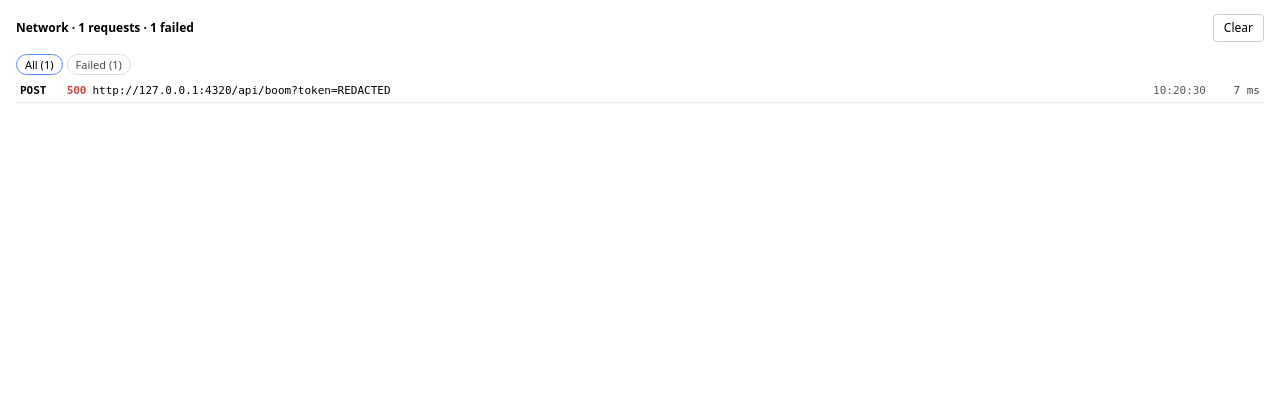
Test case: NetworkDrawer › shows request and response headers as plain text with sensitive values redacted
Step 1. Click the button "/api/boom" → [242, 91], box [16,81,1264,103]
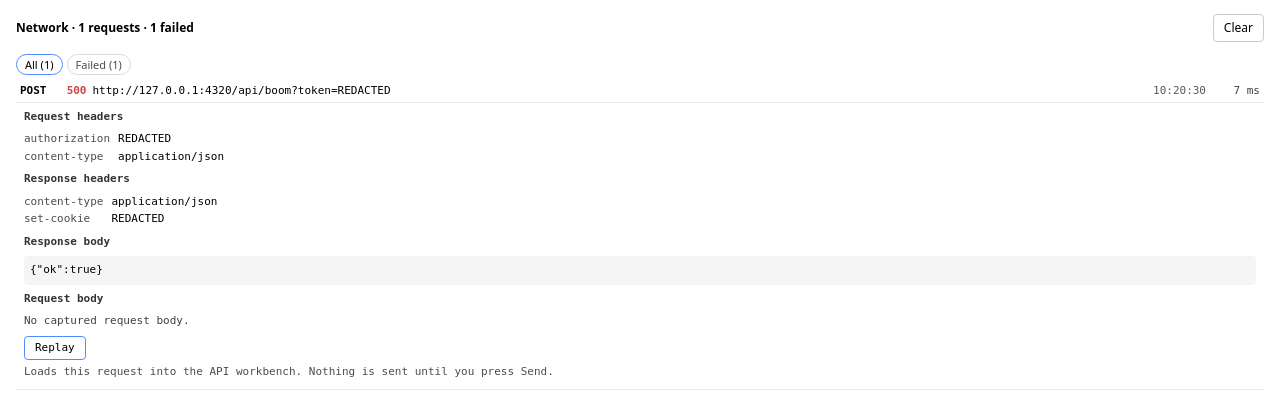
Check: the element showing "authorization REDACTED content-type application/json" is shown, box [24,132,224,163]
Check: the element showing "content-type application/json set-cookie REDACTED" is shown, box [24,195,218,225]
